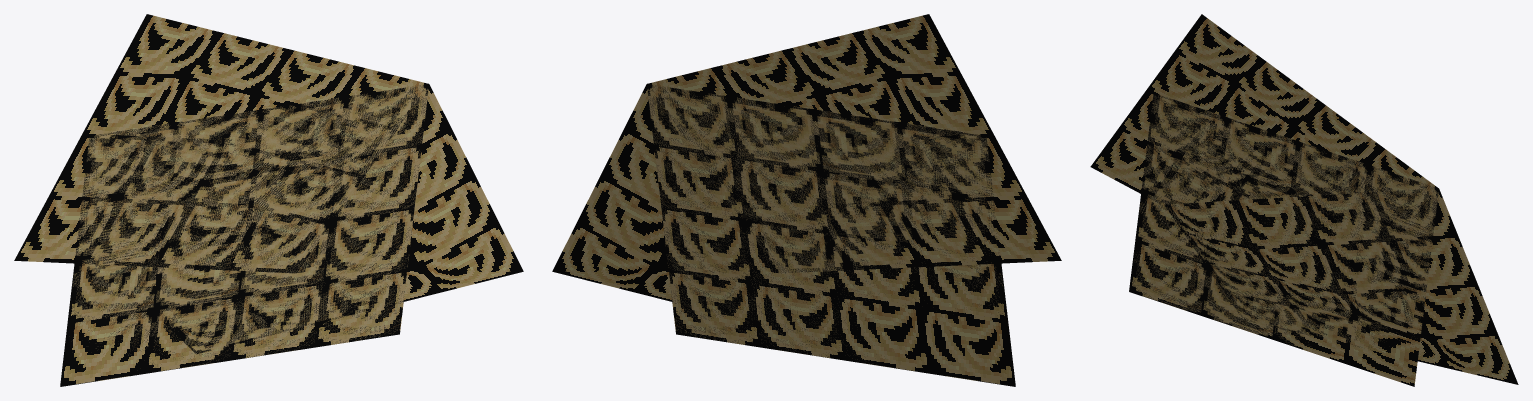
3 renders of one model, left to right at view 1: azimuth 30°, elevation 25°; view 2: azimuth 150°, elevation 25°; view 3: azimuth 330°, elevation 25°, orthographic. The views are drawn at different scales.
Parts seen in each view (by area): view 1: ef_647; view 2: ef_647; view 3: ef_647.
Part boxes in pixels (x1,y1,x2,y2): ef_647: (14, 14, 523, 386); ef_647: (552, 14, 1061, 386); ef_647: (1090, 14, 1518, 386).
Size of the model in its own units: 0.2842 by 0.2036 by 0.
1 material, 1 textured.
